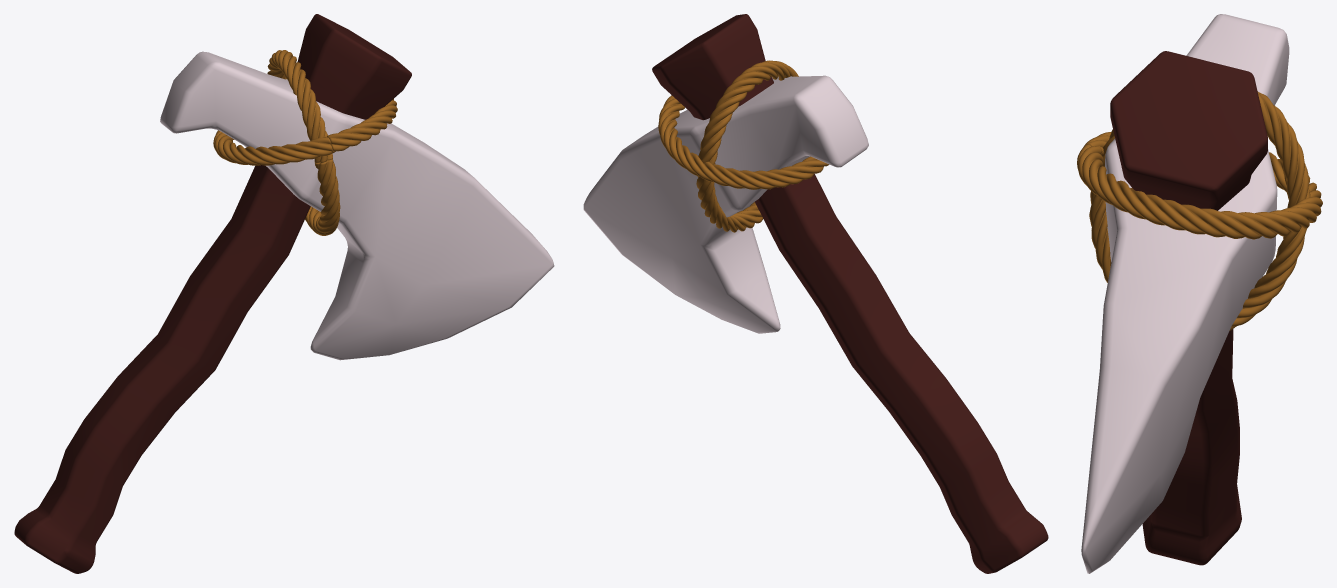
Rendered from Axe.fbx.
3 renders of one model, left to right at view 1: azimuth 30°, elevation 25°; view 2: azimuth 150°, elevation 25°; view 3: azimuth 270°, elevation 25°, orthographic. The views are drawn at different scales.
Visible parts, largest first — view 1: Plane.001, Plane, Circle.002, Circle.001; view 2: Plane, Plane.001, Circle.002, Circle.001; view 3: Plane.001, Plane, Circle.001, Circle.002.
Part boxes in pixels (left/top/right/bottom): Plane.001: left=160, top=51, right=554, bottom=360; Plane: left=14, top=14, right=411, bottom=573; Circle.002: left=267, top=50, right=340, bottom=235; Circle.001: left=213, top=99, right=397, bottom=165; Plane: left=652, top=14, right=1048, bottom=573; Plane.001: left=583, top=75, right=868, bottom=333; Circle.002: left=696, top=60, right=798, bottom=232; Circle.001: left=658, top=95, right=829, bottom=189; Plane.001: left=1081, top=14, right=1289, bottom=573; Plane: left=1110, top=51, right=1267, bottom=565; Circle.001: left=1077, top=131, right=1322, bottom=239; Circle.002: left=1089, top=91, right=1310, bottom=330.
Size of the model in its own units: 150 by 140 by 45.31.
